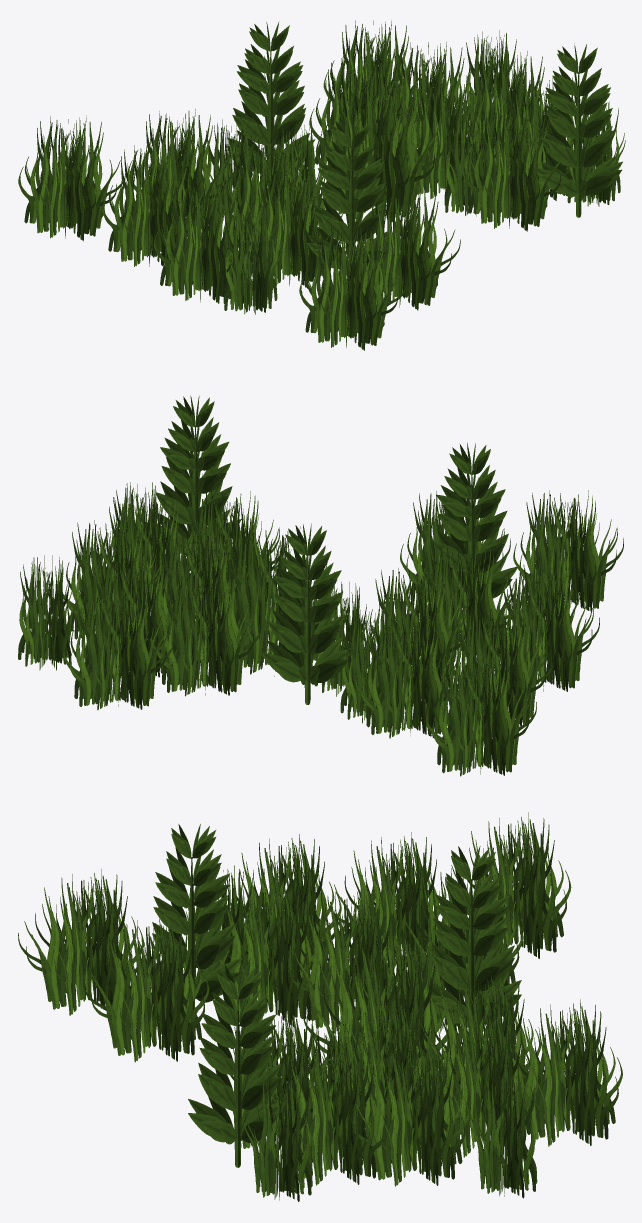
File: Grassbatch2.fbx
3 renders of one model, top to bottom at view 1: azimuth 30°, elevation 25°; view 2: azimuth 150°, elevation 25°; view 3: azimuth 270°, elevation 25°, orthographic. The views are drawn at different scales.
Visible parts, largest first — view 1: Big_Grass22; view 2: Big_Grass22; view 3: Big_Grass22.
Part boxes in pixels (bbox=[...]): Big_Grass22: bbox=[18, 20, 625, 350]; Big_Grass22: bbox=[18, 395, 623, 776]; Big_Grass22: bbox=[18, 812, 622, 1201].
Size of the model in its own units: 2.53 by 0.8623 by 2.27.
